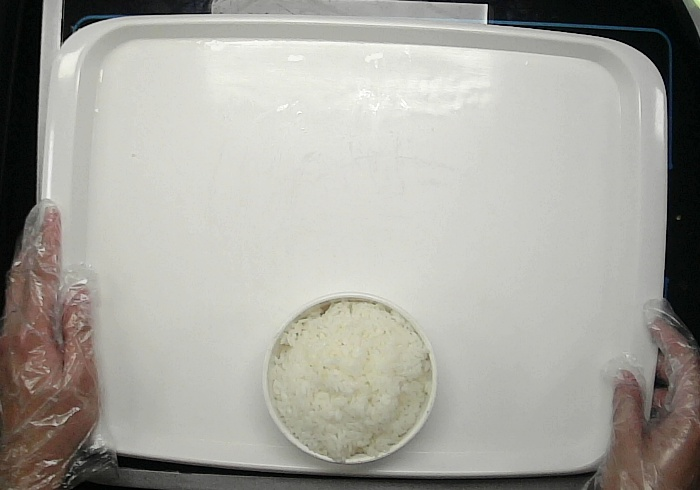HZYJPL-Fan_Wan: (261, 292, 438, 464)
